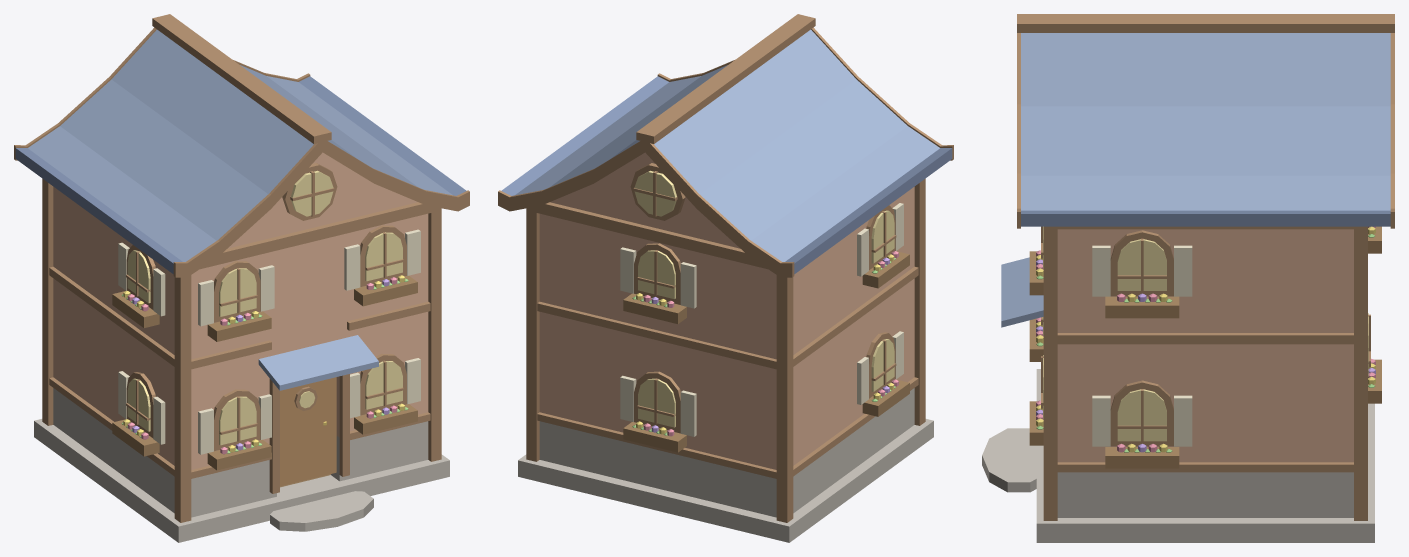
Rendered from townhouse_brick.glb.
3 views of the same model, side by side, from view 1: azimuth 30°, elevation 25°; view 2: azimuth 150°, elevation 25°; view 3: azimuth 270°, elevation 25° (orthographic). The views are drawn at different scales.
Parts seen in each view (by area): view 1: Player; view 2: Player; view 3: Player.
Boxes of the visible parts, x1,y1,x2,y2 form: Player: (14,14,469,542); Player: (498,14,953,542); Player: (982,14,1394,542).
Bounding box in the file's own units: 5.64 × 6.99 × 5.85.
